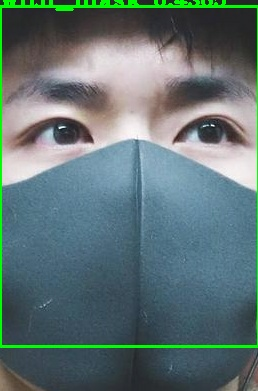with_mask: (3, 5, 258, 361)
